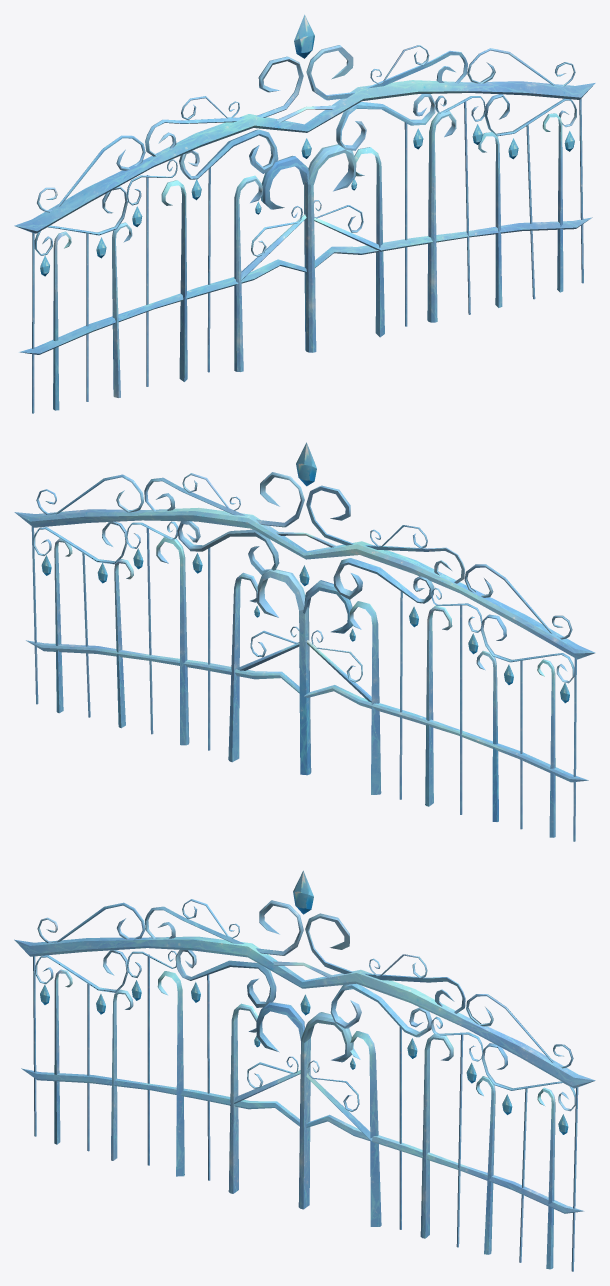
Rendered from crystalarch.fbx.
3 views of the same model, one above another, from view 1: azimuth 30°, elevation 25°; view 2: azimuth 150°, elevation 25°; view 3: azimuth 330°, elevation 25° (orthographic).
Visible parts, largest first — view 1: sitaarch, sitaarch2, pCylinder3 (×2), pCylinder15, pCylinder7 (×2), pCylinder11, pCylinder21, pCylinder9, pCylinder22, pCylinder4 (×2), pCylinder5 (×2), pCylinder8 (+12 smaller); view 2: sitaarch, sitaarch2, pCylinder3 (×2), pCylinder15, pCylinder7 (×2), pCylinder22, pCylinder21, pCylinder11, pCylinder9, pCylinder5 (×2), pCylinder4 (×2), pCylinder12 (+11 smaller); view 3: sitaarch, sitaarch2, pCylinder3 (×2), pCylinder7 (×2), pCylinder15, pCylinder22, pCylinder21, pCylinder11, pCylinder9, pCylinder4 (×2), pCylinder5 (×2), pCylinder12 (+11 smaller).
Part boxes in pixels (bbox=[...]): sitaarch: bbox=[14, 80, 595, 233]; sitaarch2: bbox=[19, 217, 592, 354]; pCylinder3 (×2): bbox=[145, 45, 467, 156]; pCylinder15: bbox=[304, 144, 356, 352]; pCylinder7 (×2): bbox=[179, 94, 435, 179]; pCylinder11: bbox=[427, 110, 456, 322]; pCylinder21: bbox=[234, 175, 262, 371]; pCylinder9: bbox=[161, 180, 187, 381]; pCylinder22: bbox=[354, 147, 384, 337]; pCylinder4 (×2): bbox=[37, 48, 575, 212]; pCylinder5 (×2): bbox=[34, 94, 576, 255]; pCylinder8: bbox=[112, 222, 132, 397]; sitaarch: bbox=[14, 507, 595, 659]; sitaarch2: bbox=[26, 640, 588, 782]; pCylinder3 (×2): bbox=[144, 472, 464, 583]; pCylinder15: bbox=[256, 569, 311, 775]; pCylinder7 (×2): bbox=[177, 521, 434, 603]; pCylinder22: bbox=[228, 572, 257, 762]; pCylinder21: bbox=[349, 601, 381, 794]; pCylinder11: bbox=[156, 537, 189, 745]; pCylinder9: bbox=[425, 605, 452, 806]; pCylinder5 (×2): bbox=[33, 521, 574, 683]; pCylinder4 (×2): bbox=[36, 474, 572, 639]; pCylinder12: bbox=[114, 559, 133, 728]; sitaarch: bbox=[14, 936, 595, 1088]; sitaarch2: bbox=[21, 1068, 584, 1213]; pCylinder3 (×2): bbox=[145, 900, 465, 1013]; pCylinder7 (×2): bbox=[175, 950, 432, 1037]; pCylinder15: bbox=[298, 1012, 352, 1209]; pCylinder22: bbox=[350, 1031, 381, 1226]; pCylinder21: bbox=[228, 1003, 258, 1193]; pCylinder11: bbox=[420, 1034, 453, 1238]; pCylinder9: bbox=[157, 971, 184, 1176]; pCylinder4 (×2): bbox=[37, 902, 573, 1068]; pCylinder5 (×2): bbox=[35, 950, 575, 1111]; pCylinder12: bbox=[476, 1076, 495, 1254].
Size of the model in its own units: 535 by 296 by 16.54.
